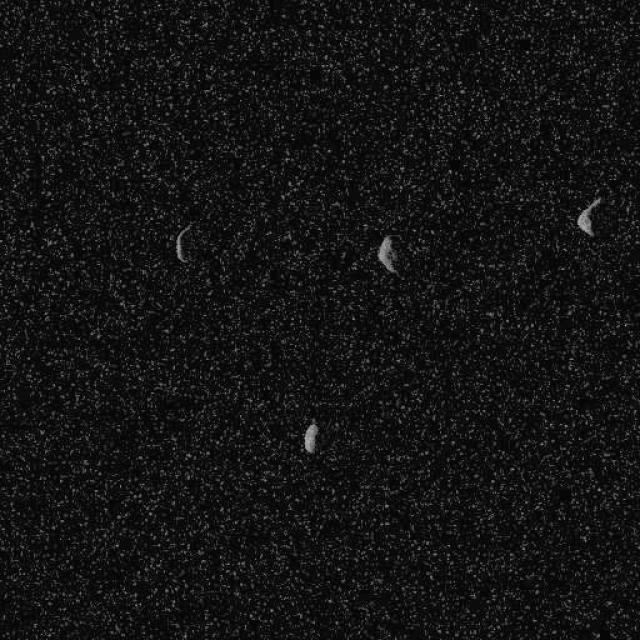D2: (575, 195, 601, 236), (376, 234, 399, 275), (174, 222, 192, 264), (302, 421, 318, 454)
